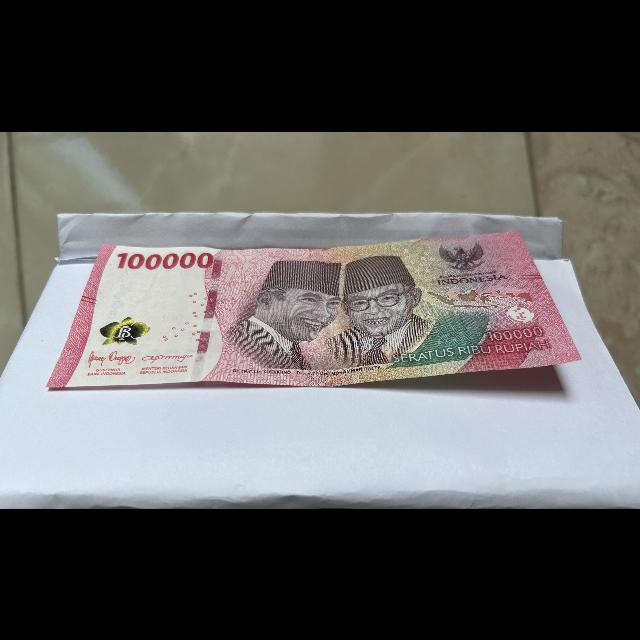Asli-100k: (39, 226, 597, 390)
Tinta-Asli-100k: (92, 313, 153, 347)
